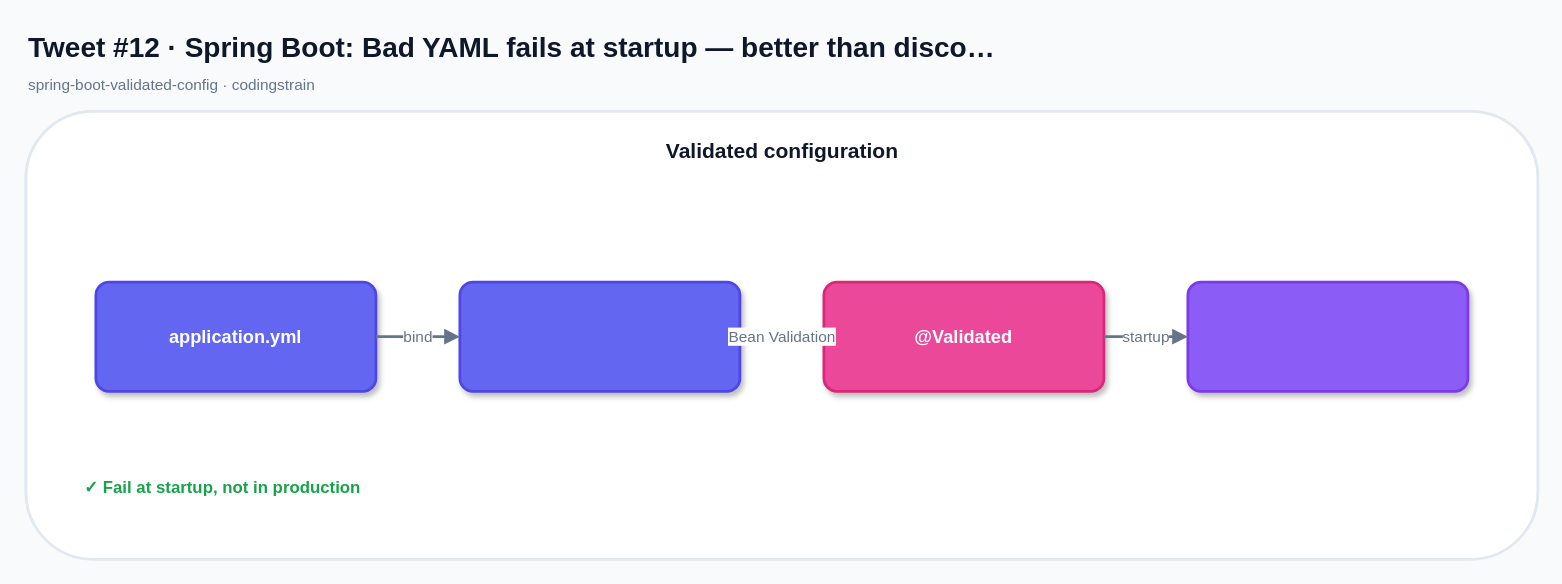
The diagram is 1562 pixels wide and 584 high, and some of its shapes have lost their labels. The centre of each missing label's shape, as x and y in pixels:
"@ConfigurationProperties" belongs at [600,338].
"Spring Context" belongs at [1328,338].
